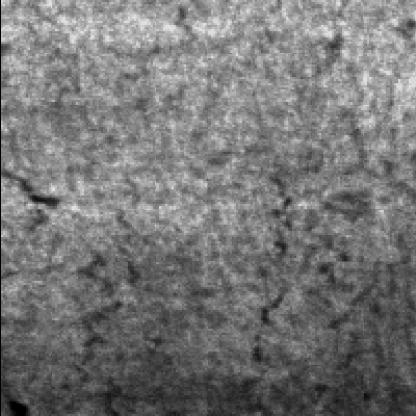crazing: (250, 129, 416, 368), (76, 168, 166, 414)
